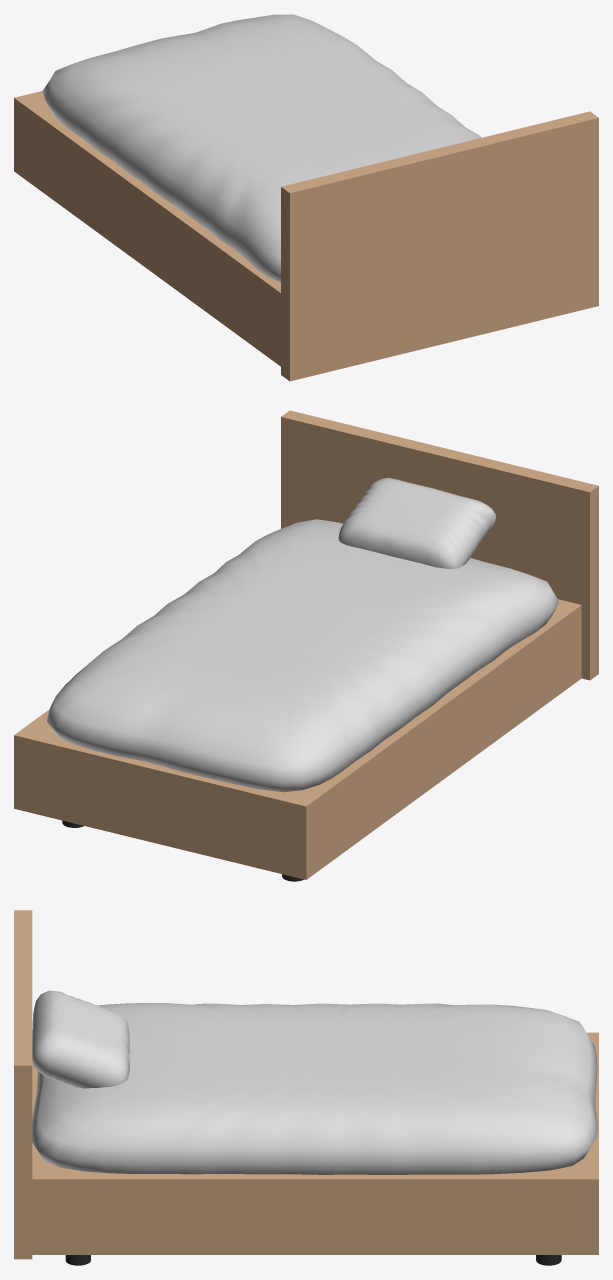
File: Lit1_8.fbx
3 renders of one model, top to bottom at view 1: azimuth 30°, elevation 25°; view 2: azimuth 150°, elevation 25°; view 3: azimuth 270°, elevation 25°, orthographic. The views are drawn at different scales.
Visible parts, largest first — view 1: pCube2134, pCylinder1506, pCube2135; view 2: pCylinder1506, pCube2135, pCube2134, pCylinder1507; view 3: pCylinder1506, pCube2135, pCylinder1507, pCube2134, pCylinder1508.
Part boxes in pixels (box(x1,y1,x2,y2)): pCube2134: box(281, 111, 598, 381); pCylinder1506: box(42, 14, 481, 282); pCube2135: box(14, 91, 280, 366); pCylinder1506: box(47, 519, 558, 792); pCube2135: box(14, 599, 581, 879); pCube2134: box(281, 410, 598, 680); pCylinder1507: box(338, 477, 495, 568); pCylinder1506: box(32, 1003, 597, 1174); pCube2135: box(32, 1032, 598, 1254); pCylinder1507: box(32, 990, 129, 1088); pCube2134: box(14, 910, 32, 1259); pCylinder1508: box(65, 1255, 561, 1265).
Size of the model in its own units: 89.96 by 58.72 by 143.
